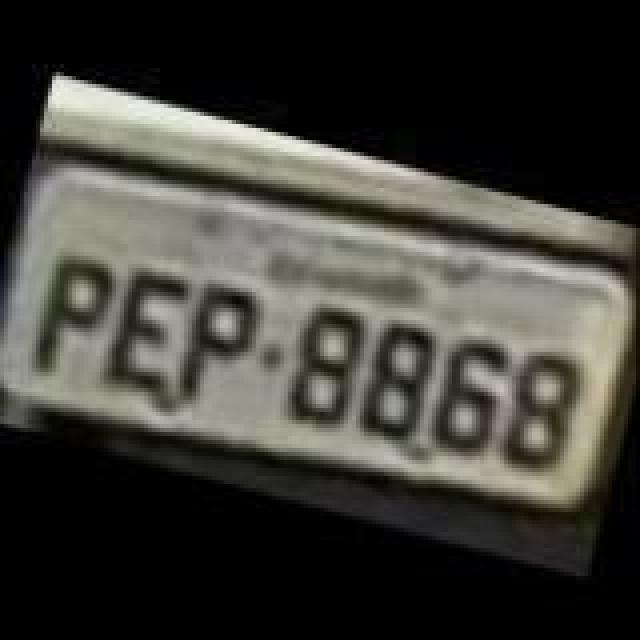6: (424, 330, 516, 466)
8: (272, 302, 380, 442), (348, 312, 448, 448), (490, 338, 586, 474)
E: (96, 260, 196, 400)
P: (168, 276, 268, 416), (26, 252, 122, 388)
